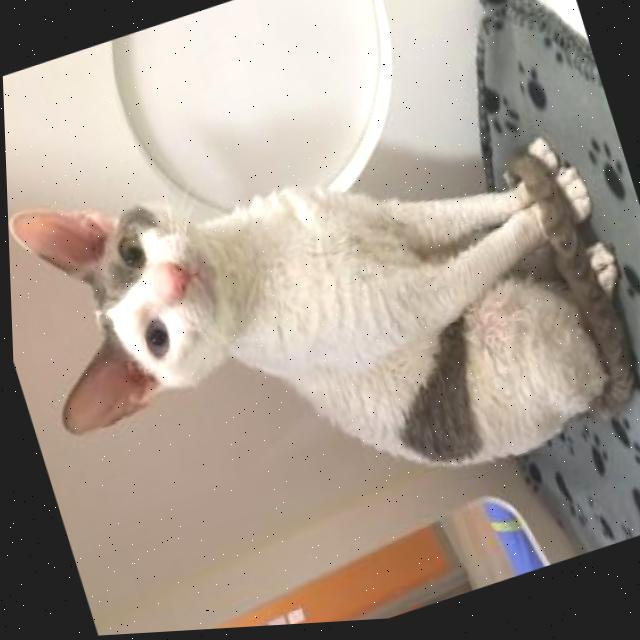Cornish Rex: (2, 37, 640, 603)
